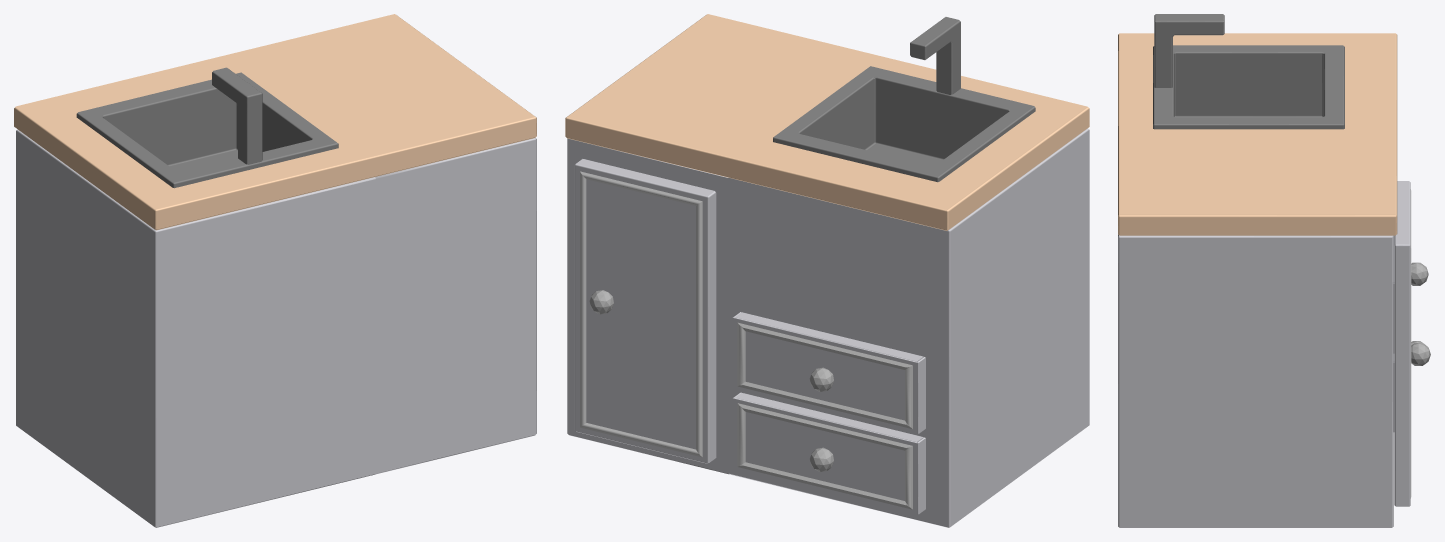
The model's file is fregadero.fbx.
The picture shows the model from 3 angles, left to right: view 1: azimuth 30°, elevation 25°; view 2: azimuth 150°, elevation 25°; view 3: azimuth 270°, elevation 25°; orthographic projection. The views are drawn at different scales.
Parts seen in each view (by area): view 1: Counter with sink; view 2: Counter with sink; view 3: Counter with sink.
Boxes of the visible parts, left/top/right/bottom form: Counter with sink: left=14, top=14, right=536, bottom=527; Counter with sink: left=565, top=14, right=1089, bottom=527; Counter with sink: left=1118, top=14, right=1430, bottom=527.
Bounding box in the file's own units: 269 × 263 × 194.
